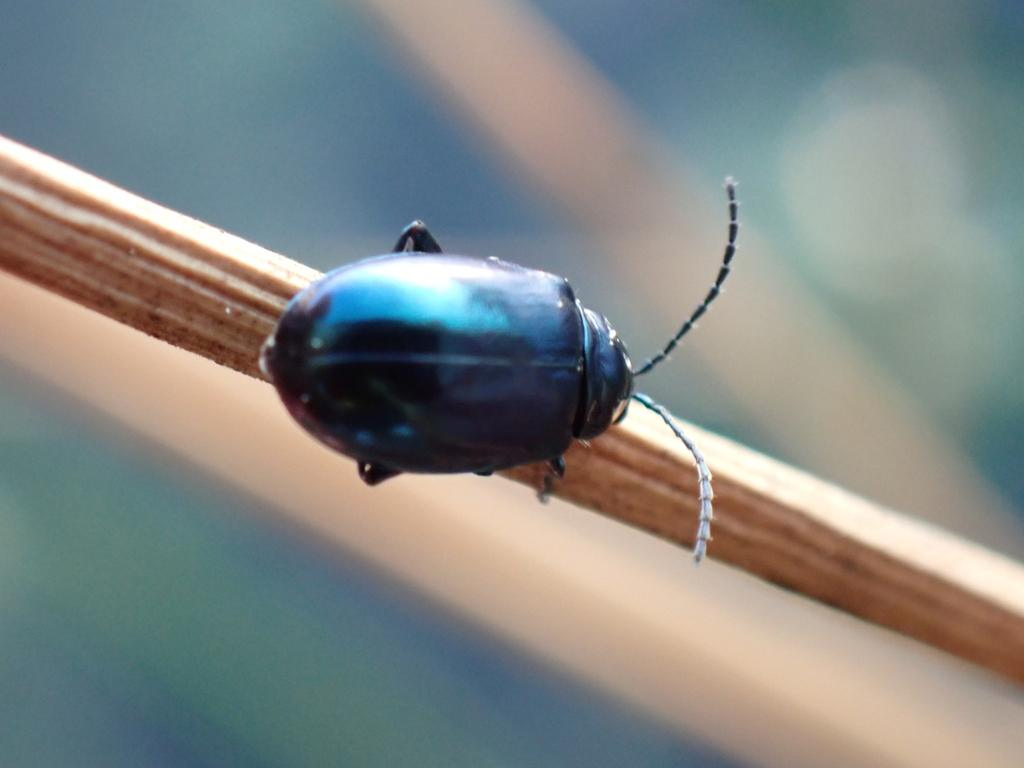flea_beetle: (221, 145, 838, 616)
